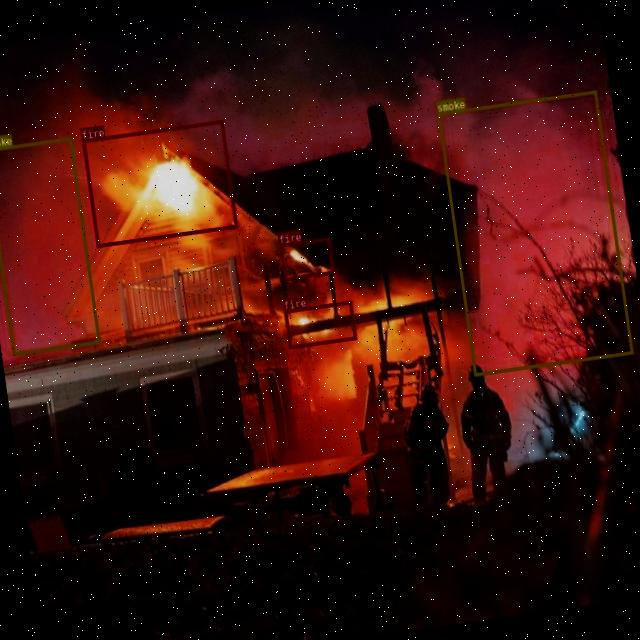fire: (81, 120, 238, 247), (284, 300, 356, 349), (278, 237, 336, 280)
smoke: (437, 90, 633, 376), (0, 136, 100, 355)
